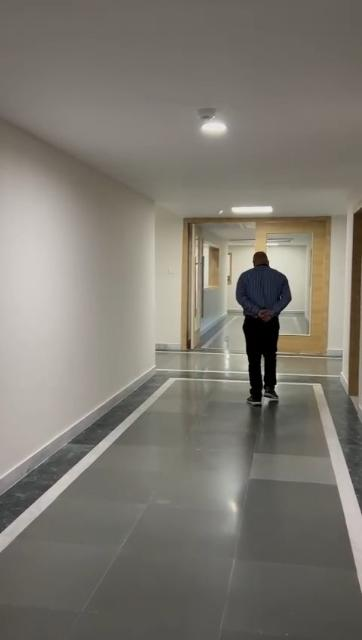floor: (0, 330, 362, 640)
moving-obj: (235, 248, 291, 404)
